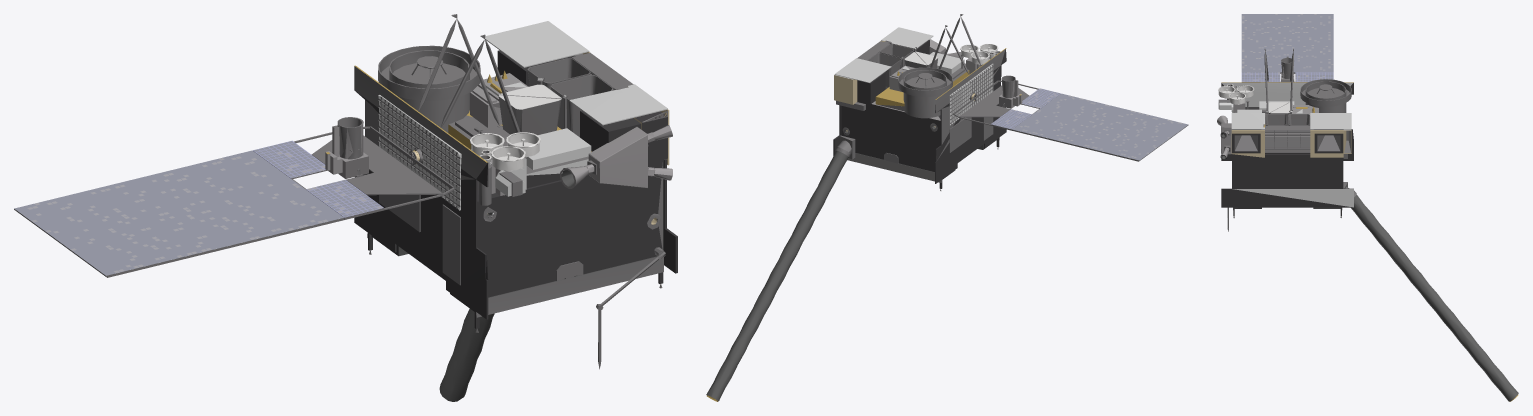
File: goes.glb
The picture shows the model from 3 angles, left to right: view 1: azimuth 30°, elevation 25°; view 2: azimuth 150°, elevation 25°; view 3: azimuth 270°, elevation 25°; orthographic projection. The views are drawn at different scales.
Parts seen in each view (by area): view 1: body, solar-panel, foil; view 2: body, solar-panel, foil; view 3: body, solar-panel.
Part boxes in pixels (box(x1,y1,x2,y2)): body: box(14, 14, 677, 401); solar-panel: box(14, 140, 383, 275); foil: box(326, 65, 656, 297); body: box(706, 14, 1188, 401); solar-panel: box(991, 88, 1188, 160); foil: box(707, 48, 1021, 401); body: box(1217, 48, 1518, 401); solar-panel: box(1241, 14, 1333, 81).
Size of the model in its own units: 0.1344 by 0.1218 by 0.1113.
